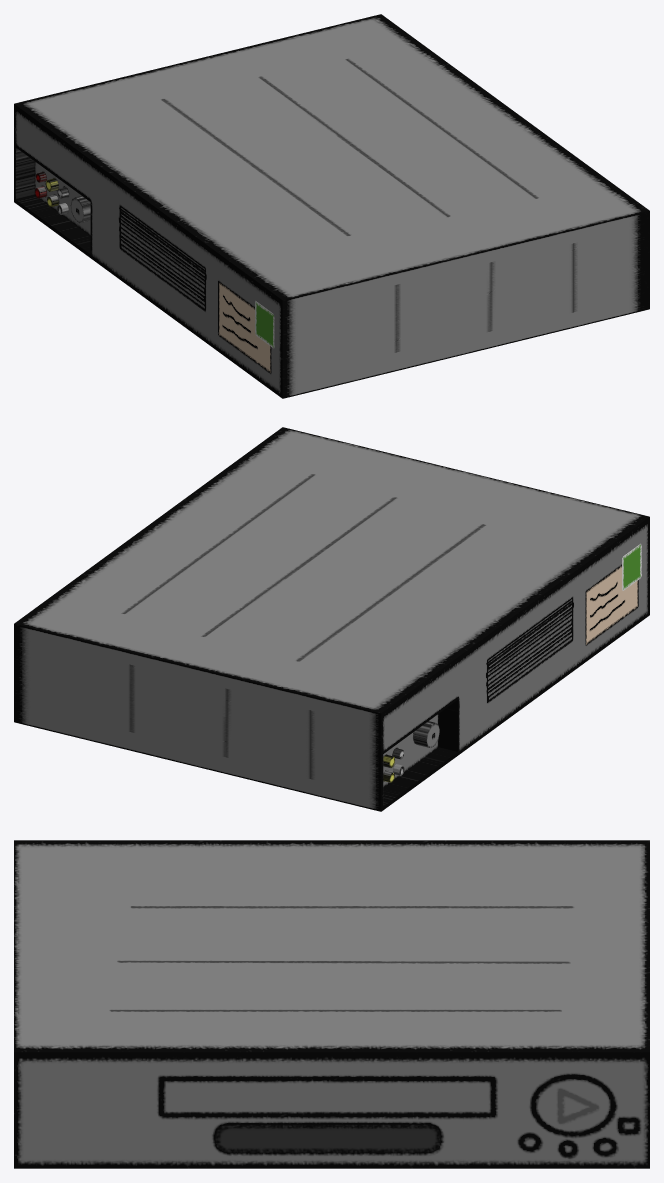
Rendered from vhs_player.obj.
3 renders of one model, top to bottom at view 1: azimuth 30°, elevation 25°; view 2: azimuth 150°, elevation 25°; view 3: azimuth 270°, elevation 25°, orthographic. The views are drawn at different scales.
Visible parts, largest first — view 1: vhsPlayer; view 2: vhsPlayer; view 3: vhsPlayer.
Part boxes in pixels (x1,y1,x2,y2): vhsPlayer: [14, 14, 649, 398]; vhsPlayer: [14, 427, 649, 811]; vhsPlayer: [14, 840, 649, 1168].
Bounding box in the file's own units: 1.58 × 0.4044 × 2.
